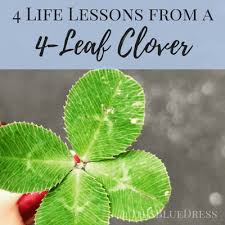4-clover: (1, 71, 172, 224)
